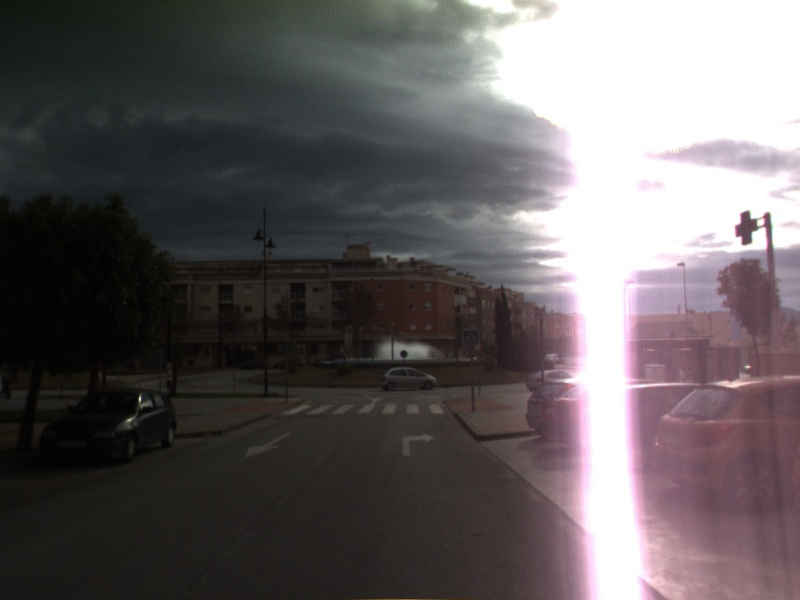RIGHT: (400, 430, 437, 458)
